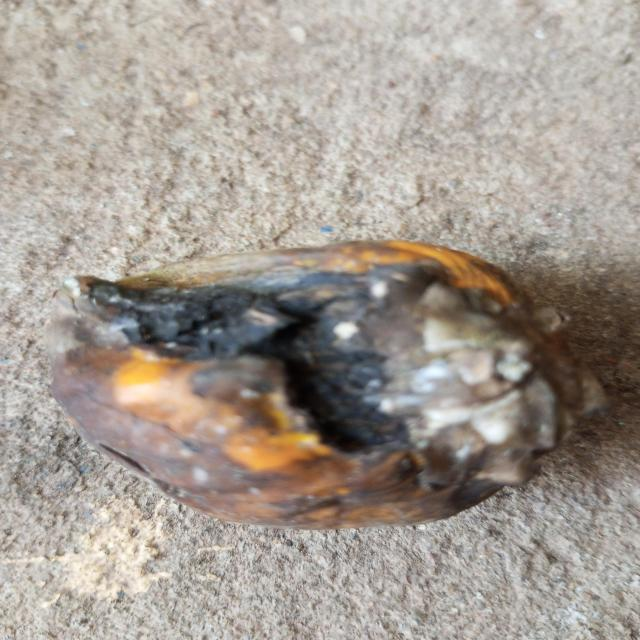damaged: (46, 241, 606, 529)
